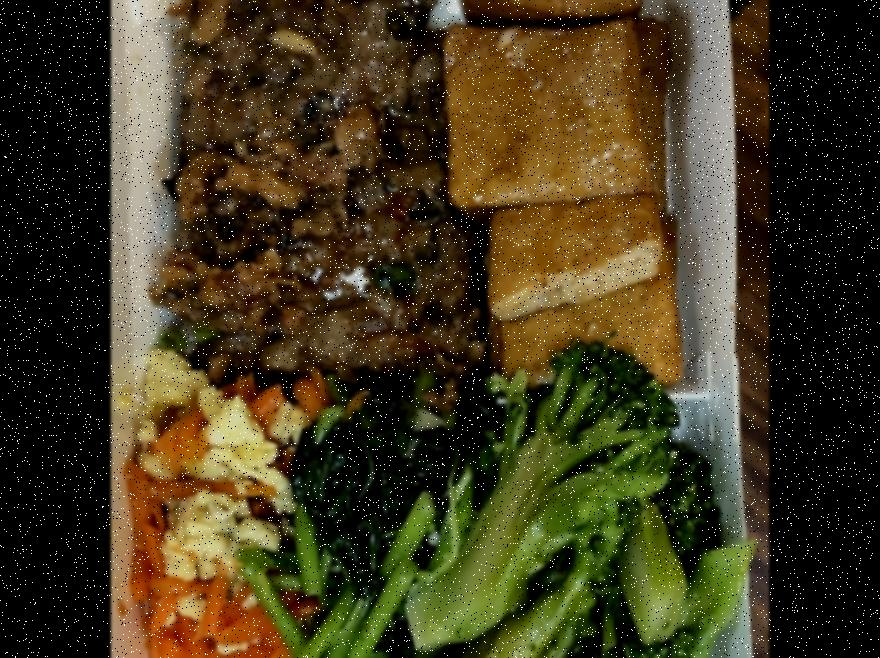box: (127, 0, 760, 658)
side dish: (350, 344, 732, 658), (440, 0, 691, 384), (138, 365, 309, 658), (281, 393, 465, 658)
unknown square main dish: (155, 0, 482, 387)
